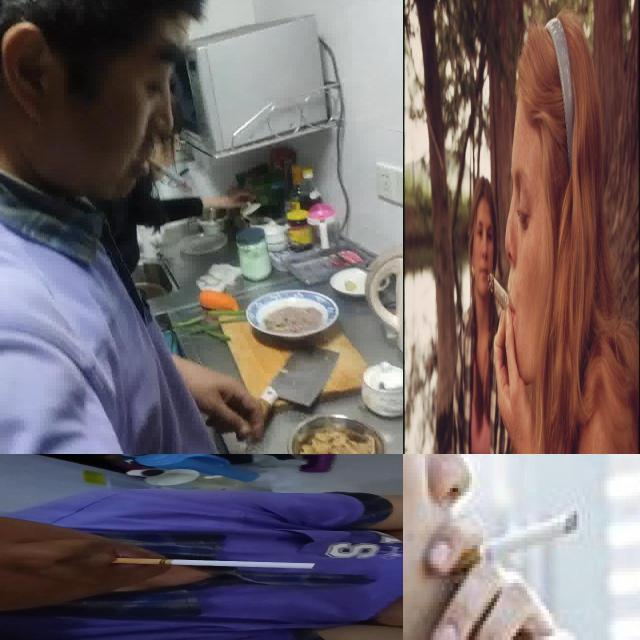smoking: (443, 510, 579, 578), (113, 558, 319, 570), (146, 156, 188, 188), (488, 273, 512, 314)
